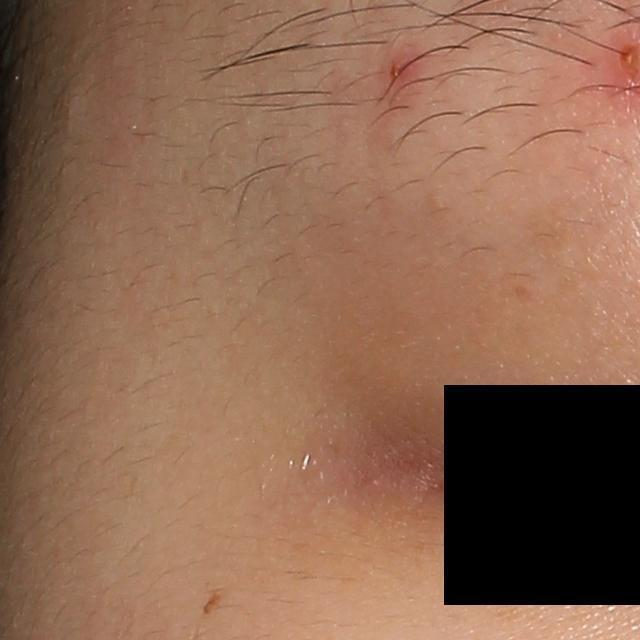nevus: (202, 591, 220, 615)
